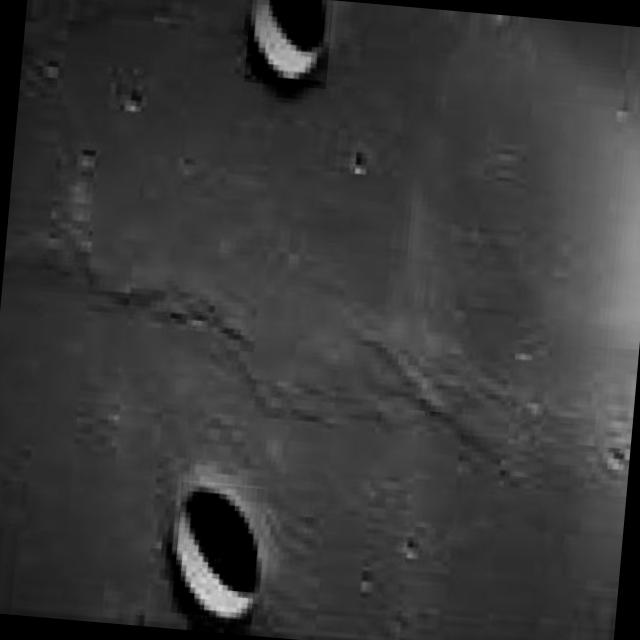crater: (170, 482, 263, 620), (243, 0, 332, 88)
